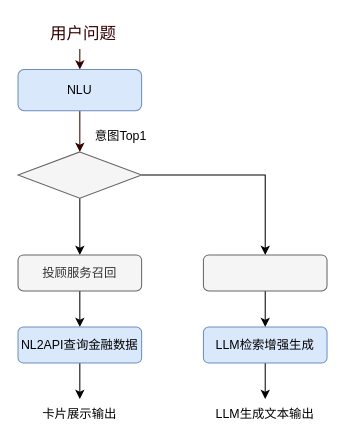
The diagram is 345 pixels wide and 447 high, and some of its shapes have lost their labels. The box of each missing label's shape, as (x1, y1, x2, y2) in pixels:
Query扩展& 金融内容检索: (202, 254, 327, 291)
意图路由: (17, 151, 142, 198)
